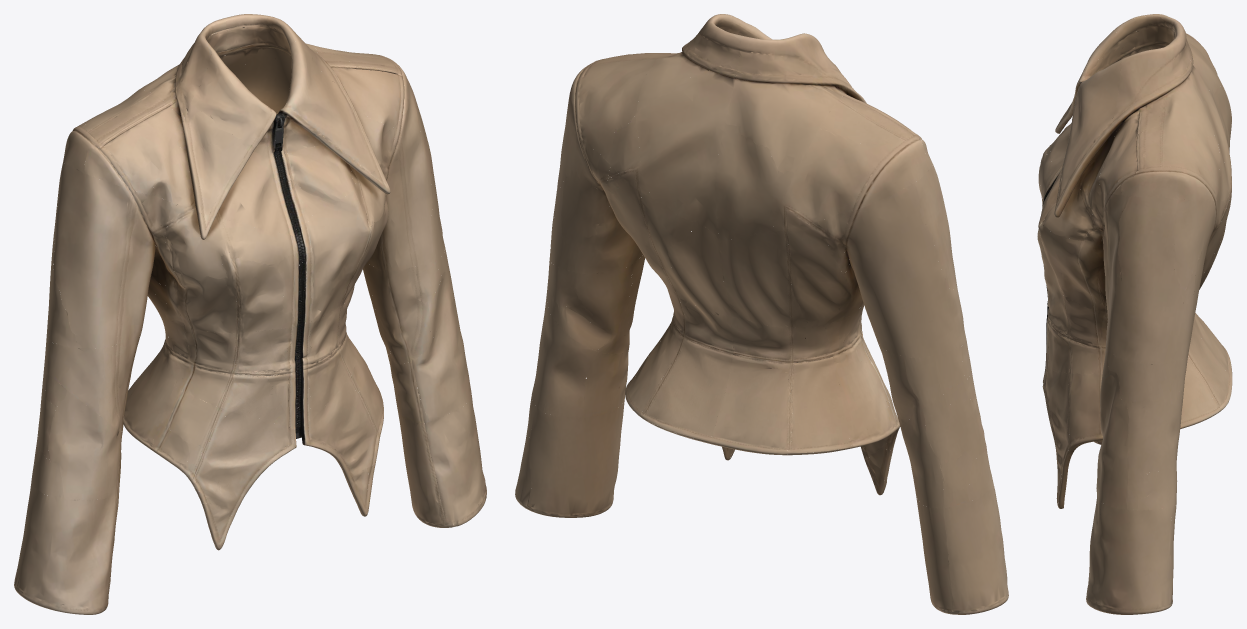
The model's file is beige_peplum_jacket.glb.
The picture shows the model from 3 angles, left to right: view 1: azimuth 30°, elevation 25°; view 2: azimuth 150°, elevation 25°; view 3: azimuth 270°, elevation 25°; orthographic projection. The views are drawn at different scales.
Visible parts, largest first — view 1: beige_peplum_jacket; view 2: beige_peplum_jacket; view 3: beige_peplum_jacket.
Part boxes in pixels (x1,y1,x2,y2): beige_peplum_jacket: (14, 14, 486, 614); beige_peplum_jacket: (515, 14, 1008, 614); beige_peplum_jacket: (1037, 14, 1232, 614).
Size of the model in its own units: 0.5768 by 0.62 by 0.2232.
1 material, 1 textured.
